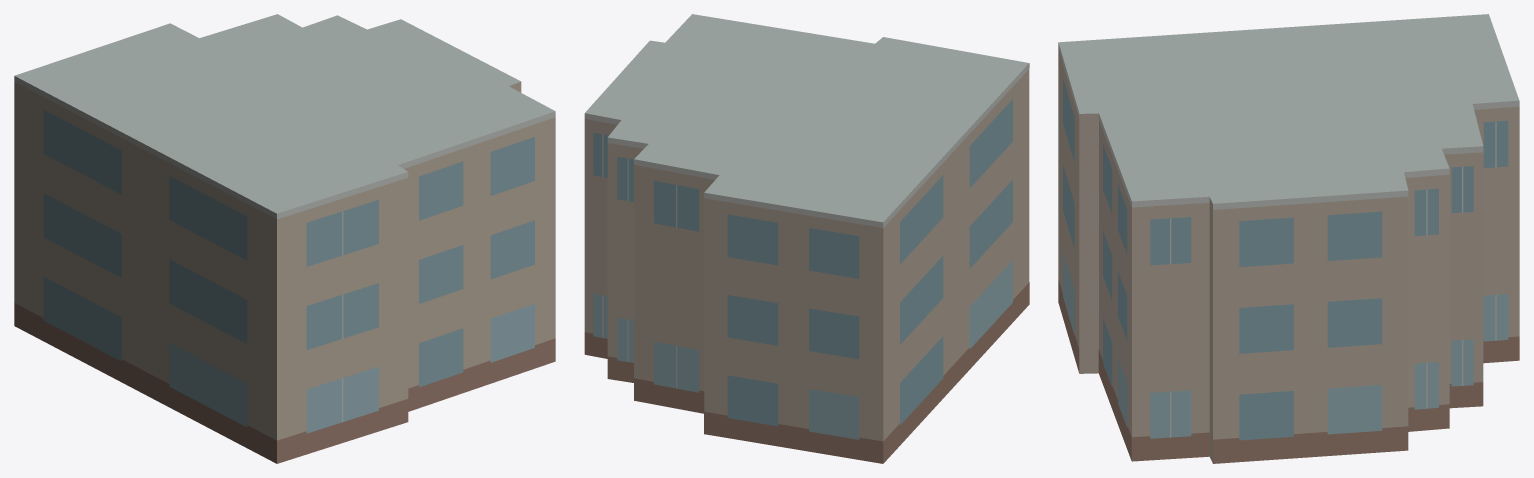
Rendered from survey-upis-33015971.glb.
3 views of the same model, side by side, from view 1: azimuth 30°, elevation 25°; view 2: azimuth 150°, elevation 25°; view 3: azimuth 270°, elevation 25° (orthographic). The views are drawn at different scales.
Parts seen in each view (by area): view 1: survey-upis-33015971.tmp; view 2: survey-upis-33015971.tmp; view 3: survey-upis-33015971.tmp.
Boxes of the visible parts, bbox=[...] form: survey-upis-33015971.tmp: bbox=[14, 14, 555, 463]; survey-upis-33015971.tmp: bbox=[584, 14, 1029, 463]; survey-upis-33015971.tmp: bbox=[1058, 14, 1519, 463].
Bounding box in the file's own units: 16.46 × 10.5 × 16.89.
